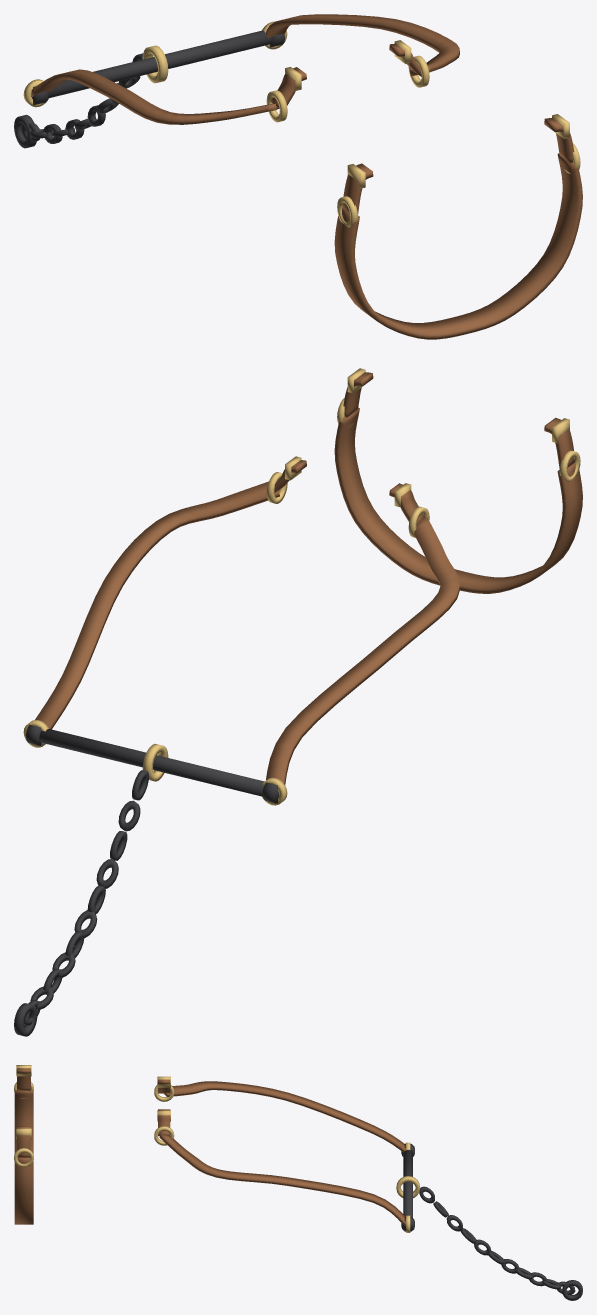
File: Harness.fbx
The picture shows the model from 3 angles, top to bottom: view 1: azimuth 30°, elevation 25°; view 2: azimuth 150°, elevation 25°; view 3: azimuth 270°, elevation 25°; orthographic projection. The views are drawn at different scales.
Parts seen in each view (by area): view 1: harness_leather, harness_brass, harness_iron, harness_chain; view 2: harness_leather, harness_chain, harness_iron, harness_brass; view 3: harness_leather, harness_chain, harness_brass, harness_iron.
Part boxes in pixels (box(x1,y1,x2,y2)): harness_leather: box(31, 14, 582, 339); harness_brass: box(23, 21, 580, 227); harness_iron: box(32, 30, 284, 105); harness_chain: box(14, 53, 142, 148); harness_leather: box(35, 372, 582, 784); harness_chain: box(14, 770, 148, 1036); harness_iron: box(26, 724, 278, 803); harness_brass: box(23, 368, 580, 805); harness_leather: box(14, 1068, 405, 1226); harness_chain: box(419, 1186, 582, 1300); harness_brass: box(14, 1065, 419, 1232); harness_iron: box(401, 1143, 414, 1231).
Bounding box in the file's own units: 1.29 × 1.31 × 3.29.
